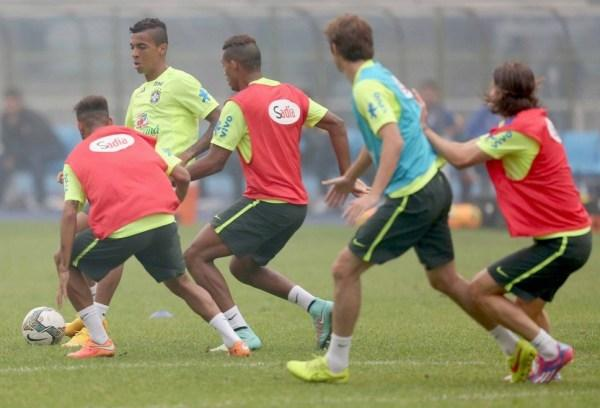person: (283, 13, 539, 385), (146, 34, 375, 354), (407, 63, 592, 385), (47, 17, 224, 348), (54, 94, 252, 359)
